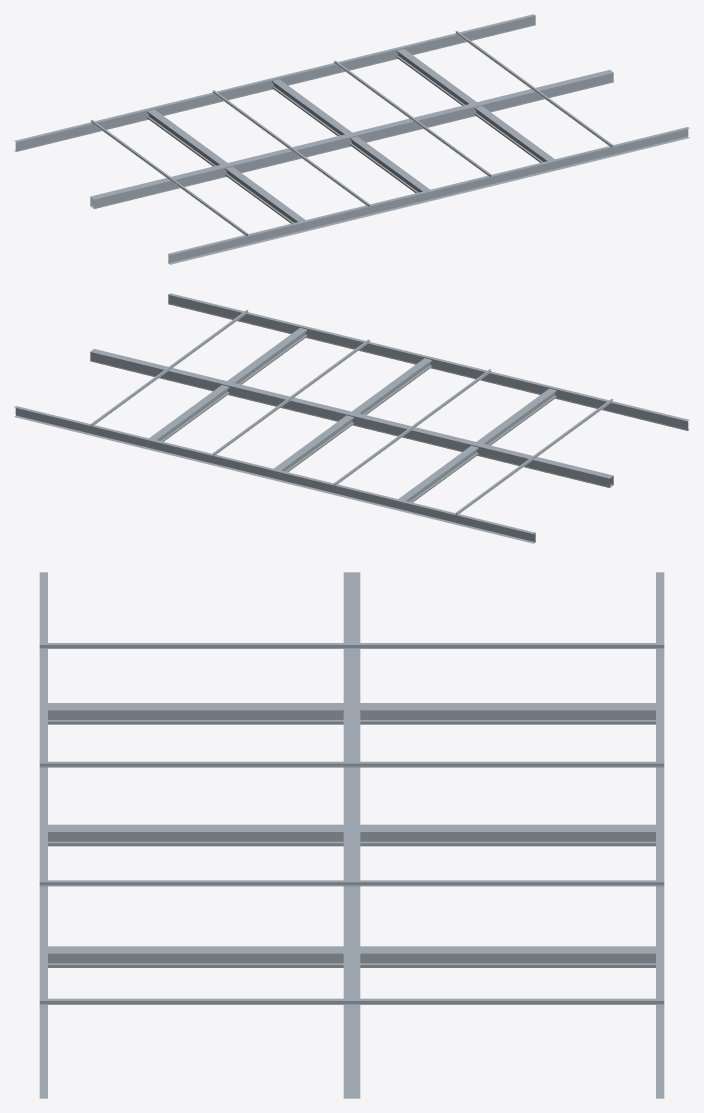
The model's file is SM06_Building_Structure_Roof_Flat_02_Default.fbx.
The picture shows the model from 3 angles, top to bottom: view 1: azimuth 30°, elevation 25°; view 2: azimuth 150°, elevation 25°; view 3: azimuth 270°, elevation 25°; orthographic projection. The views are drawn at different scales.
Parts seen in each view (by area): view 1: SM06_Building_Structure_Roof_Flat_02_Default; view 2: SM06_Building_Structure_Roof_Flat_02_Default; view 3: SM06_Building_Structure_Roof_Flat_02_Default.
Part boxes in pixels (x1,y1,x2,y2): SM06_Building_Structure_Roof_Flat_02_Default: [14, 14, 689, 264]; SM06_Building_Structure_Roof_Flat_02_Default: [14, 293, 689, 543]; SM06_Building_Structure_Roof_Flat_02_Default: [39, 572, 664, 1098].
Bounding box in the file's own units: 28.84 × 0.6139 × 15.
